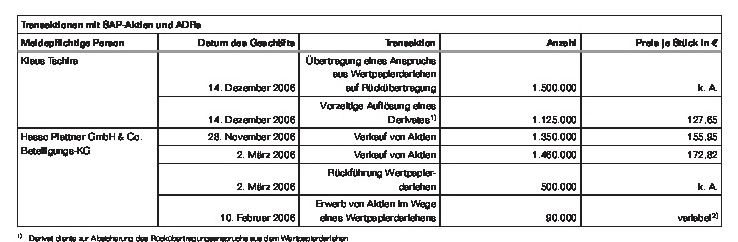table: (0, 0, 738, 242)
